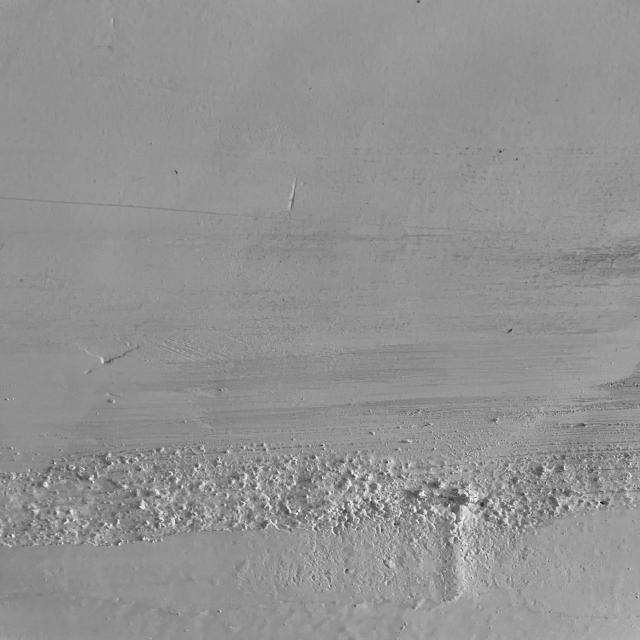rough and patchy surface: (0, 393, 640, 611), (49, 333, 152, 392)
